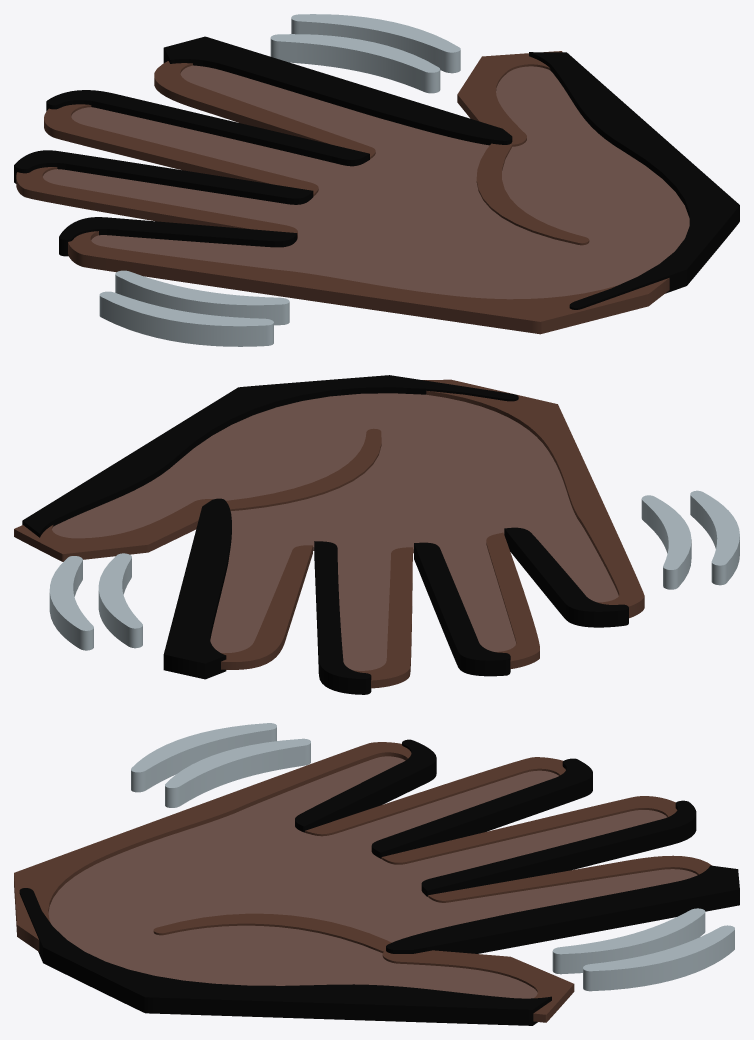
File: emoji_u1f44b_1f3ff.glb
3 views of the same model, one above another, from view 1: azimuth 30°, elevation 25°; view 2: azimuth 150°, elevation 25°; view 3: azimuth 270°, elevation 25° (orthographic). The views are drawn at different scales.
Parts seen in each view (by area): view 1: emoji_u1f44b_1f3ff; view 2: emoji_u1f44b_1f3ff; view 3: emoji_u1f44b_1f3ff.
Part boxes in pixels (x1,y1,x2,y2): emoji_u1f44b_1f3ff: (14,14,739,346); emoji_u1f44b_1f3ff: (14,375,739,694); emoji_u1f44b_1f3ff: (14,723,739,1025).
Size of the model in its own units: 0.0307 by 0.001 by 0.0329.
